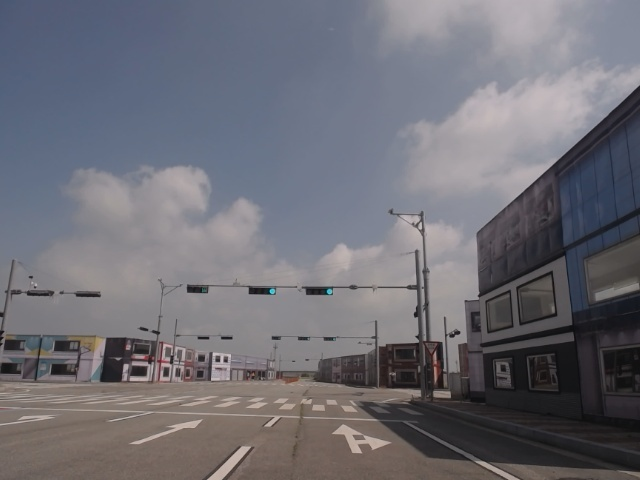straight_green_4: (307, 285, 333, 296), (249, 287, 277, 296)
